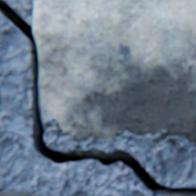brick: (34, 0, 195, 143), (0, 191, 42, 195), (87, 150, 104, 153), (160, 194, 195, 195)
crack: (0, 0, 195, 194)
